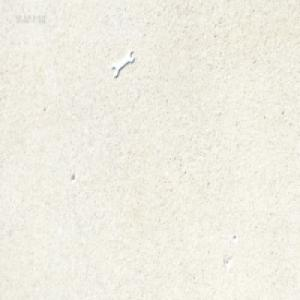Wrench: (112, 52, 134, 80)
